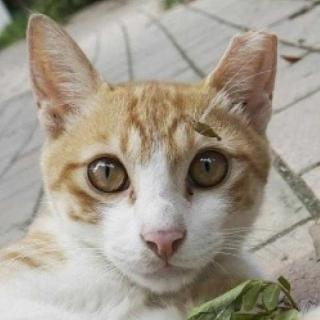cat: (28, 6, 282, 301)
nose: (136, 189, 188, 259)
